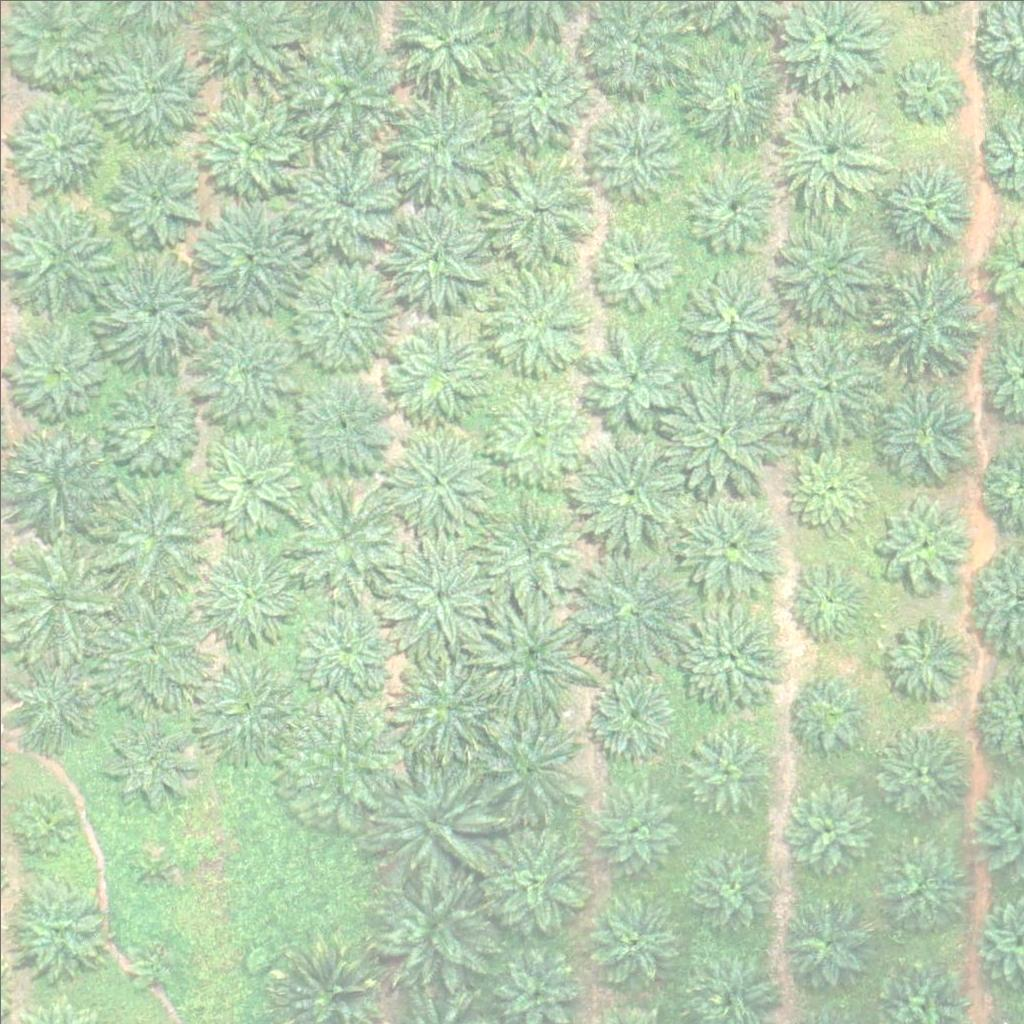Kelapa_Sawit: (284, 704, 397, 818), (372, 872, 485, 986), (372, 765, 485, 879), (864, 372, 977, 486), (872, 259, 985, 373), (3, 541, 116, 655), (866, 151, 979, 264), (774, 89, 887, 202), (675, 600, 788, 713), (674, 484, 787, 597), (571, 551, 684, 664), (573, 433, 686, 546), (477, 261, 590, 374), (485, 152, 598, 265), (392, 651, 505, 764), (289, 589, 402, 702), (285, 482, 398, 595), (288, 368, 401, 481), (185, 314, 298, 427), (193, 204, 306, 317), (92, 29, 205, 142), (191, 83, 304, 196), (380, 84, 493, 197), (480, 33, 593, 146), (767, 327, 879, 441), (770, 215, 882, 329), (673, 147, 785, 261), (195, 656, 307, 770), (191, 541, 303, 655), (96, 589, 208, 703), (99, 481, 211, 595), (2, 313, 114, 427), (676, 35, 788, 149), (94, 702, 206, 815), (477, 822, 589, 935), (470, 708, 582, 821), (666, 378, 778, 491), (672, 265, 784, 378), (475, 593, 587, 706), (473, 491, 585, 604), (384, 532, 496, 645), (383, 421, 495, 534), (378, 197, 490, 310), (290, 254, 402, 367), (289, 142, 401, 255), (98, 261, 210, 374), (287, 32, 399, 145), (3, 876, 103, 977), (581, 893, 681, 994), (776, 893, 876, 994), (871, 836, 971, 937), (870, 723, 970, 824), (585, 328, 685, 429), (489, 382, 589, 483), (389, 322, 489, 423), (199, 435, 299, 536), (104, 144, 204, 245), (4, 648, 104, 749), (7, 96, 107, 197), (875, 491, 975, 591), (582, 100, 682, 200), (103, 379, 203, 479), (591, 785, 679, 873), (586, 668, 674, 756), (689, 843, 777, 931), (880, 612, 968, 700), (782, 558, 870, 646), (785, 444, 873, 532), (683, 725, 770, 814), (783, 785, 870, 874), (785, 670, 872, 758), (589, 222, 676, 310), (13, 791, 76, 854), (893, 55, 956, 118), (133, 942, 170, 980), (137, 851, 174, 889)
